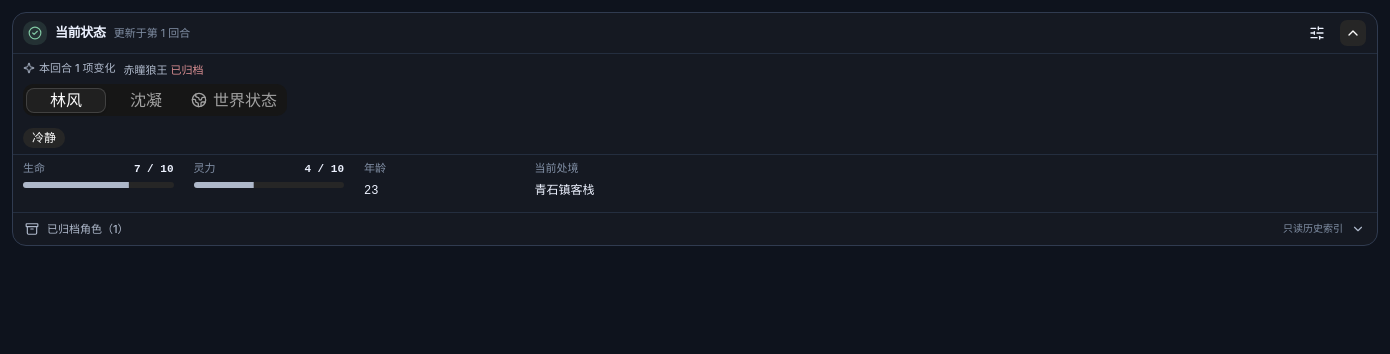
Test case: StoryStateLedger › keeps archived Actors out of active tabs and exposes a read-only archive drawer
Click the button "已归档角色（1） 只读历史索引" at x=88, y=229, box [13,213,1377,245]
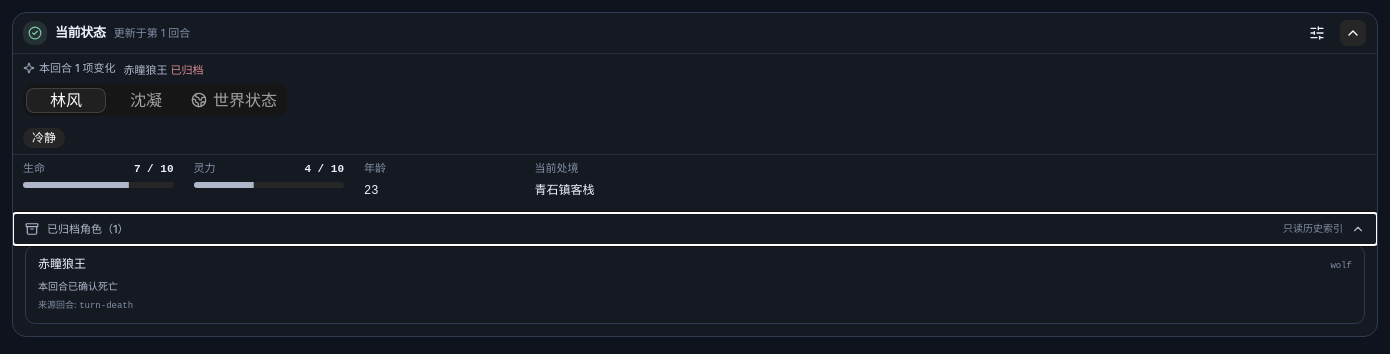
Expected: the heading "赤瞳狼王" is shown, [38,256,86,272]
Expected: the text "本回合已确认死亡" is shown, [38,280,118,292]
Expected: the text "turn-death" is shown, [79,301,133,311]
